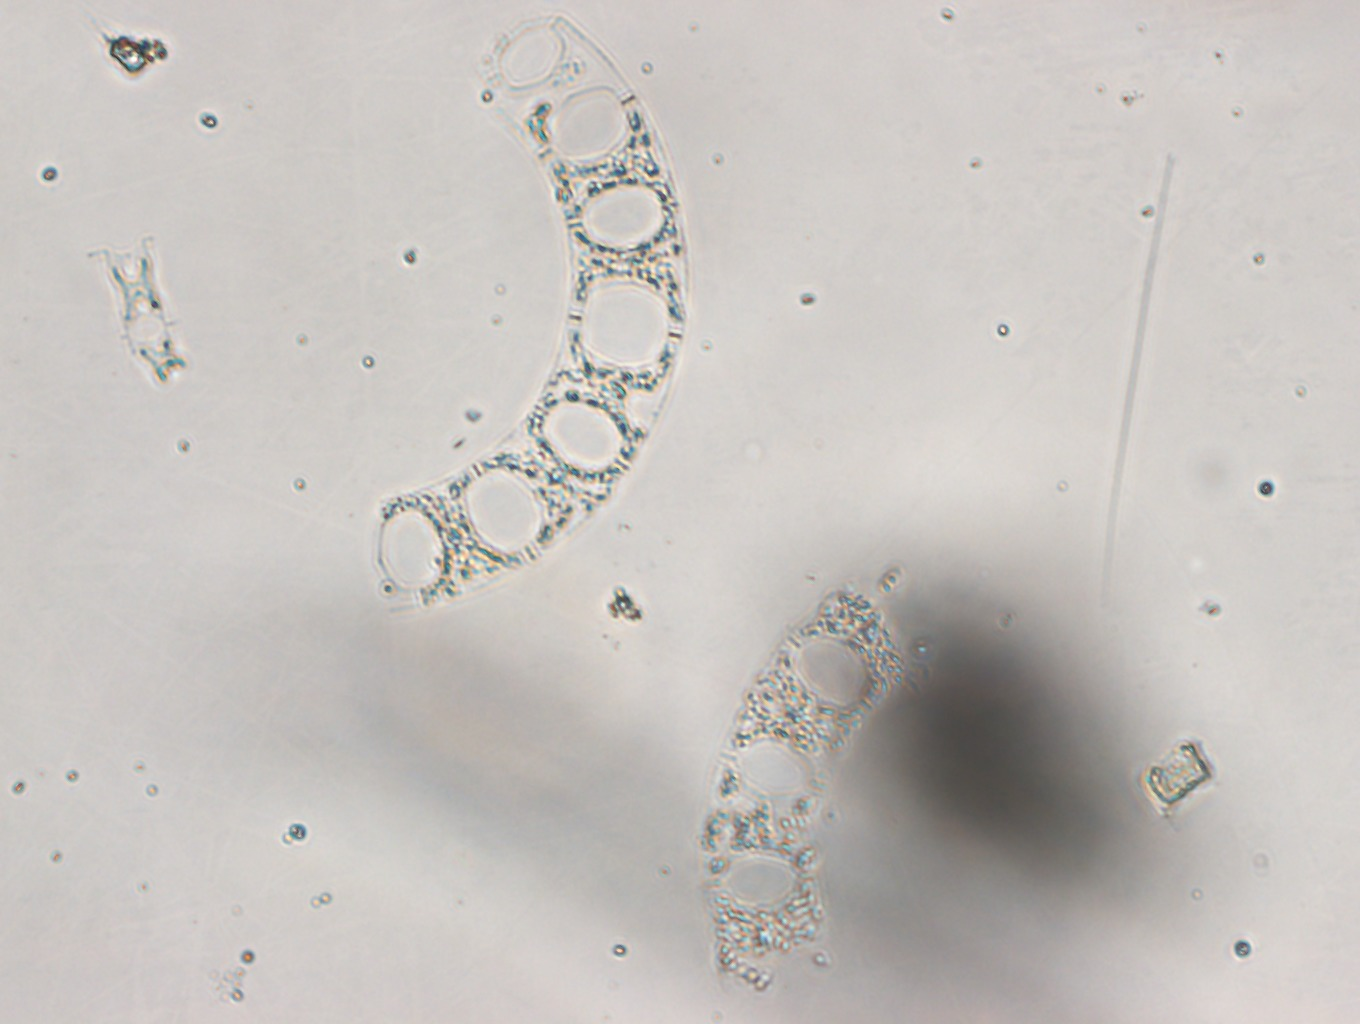eucampia: (369, 13, 691, 618), (700, 580, 912, 995)
